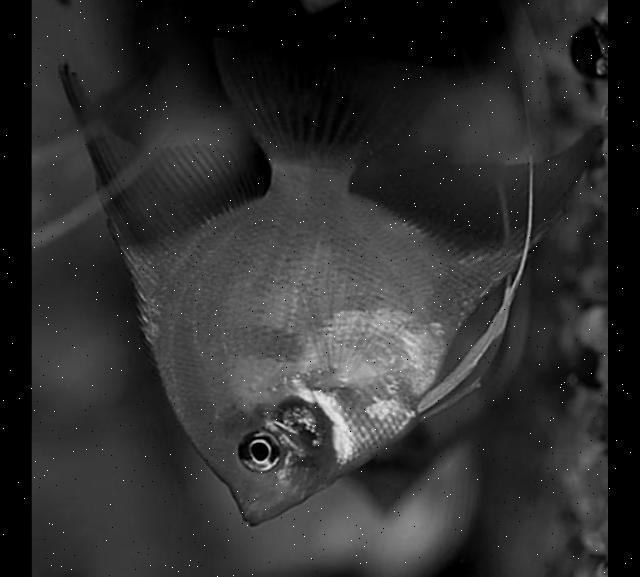Mulut: (218, 472, 311, 542)
Sirip Anal: (346, 109, 604, 298)
Sirip Dada: (290, 246, 410, 388)
Sirip Ekor: (202, 21, 465, 176)
Sirip Perut: (404, 103, 576, 438)
Sirip Punggung: (44, 51, 269, 296)
